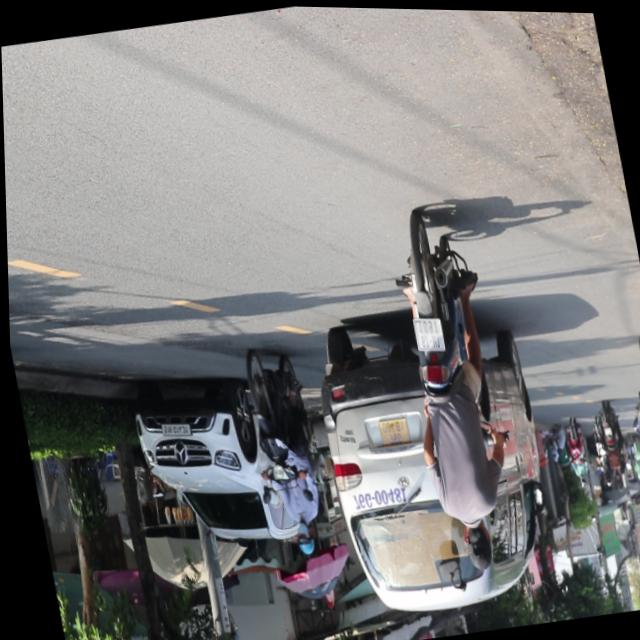helmet: (290, 521, 313, 557)
licenseplate: (376, 207, 530, 580), (236, 342, 333, 562)
motorcyclist: (456, 516, 494, 573)
nohelmet: (411, 315, 443, 353)
